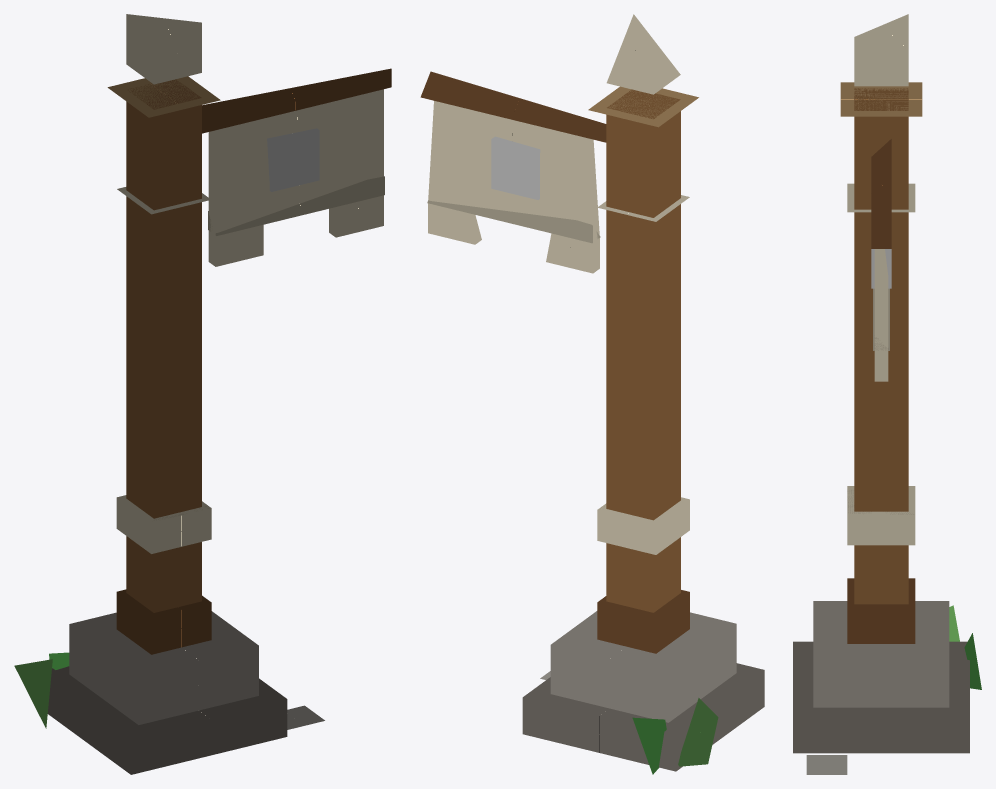
File: territory-marker-neutral_lod1.glb
3 renders of one model, left to right at view 1: azimuth 30°, elevation 25°; view 2: azimuth 150°, elevation 25°; view 3: azimuth 270°, elevation 25°, orthographic. The views are drawn at different scales.
Visible parts, largest first — view 1: marker-post, banner; view 2: marker-post, banner; view 3: marker-post, banner.
Part boxes in pixels (box(x1,y1,x2,y2)): marker-post: box(14, 14, 324, 774); banner: box(202, 68, 391, 266); marker-post: box(522, 14, 764, 774); banner: box(420, 71, 606, 273); marker-post: box(793, 14, 981, 774); banner: box(871, 139, 891, 381).
Size of the model in its own units: 0.5581 by 1.12 by 0.2778.
